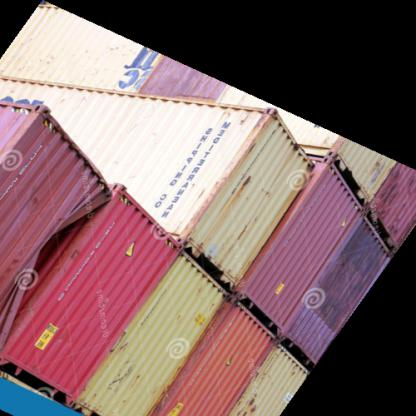Damage: (21, 181, 113, 292)
